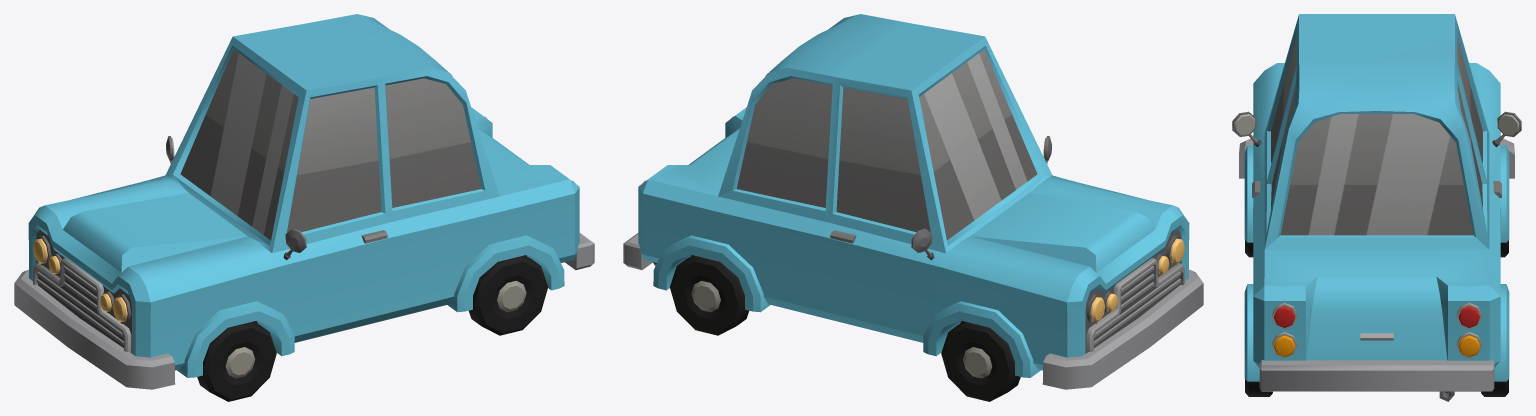
File: Car_8_R.gltf
3 renders of one model, left to right at view 1: azimuth 30°, elevation 25°; view 2: azimuth 150°, elevation 25°; view 3: azimuth 270°, elevation 25°, orthographic. The views are drawn at different scales.
Visible parts, largest first — view 1: Car_8_R, RL, FL; view 2: Car_8_R, RR, FR; view 3: Car_8_R, RL, RR.
Part boxes in pixels (bbox=[...]): Car_8_R: bbox=[14, 14, 594, 389]; RL: bbox=[469, 255, 547, 335]; FL: bbox=[197, 321, 276, 401]; Car_8_R: bbox=[623, 14, 1203, 389]; RR: bbox=[670, 255, 748, 335]; FR: bbox=[941, 321, 1020, 401]; Car_8_R: bbox=[1232, 14, 1521, 401]; RL: bbox=[1245, 379, 1272, 396]; RR: bbox=[1481, 379, 1508, 396].
Bounding box in the file's own units: 3.38 × 1.84 × 1.7.
3 materials, 3 textured.
